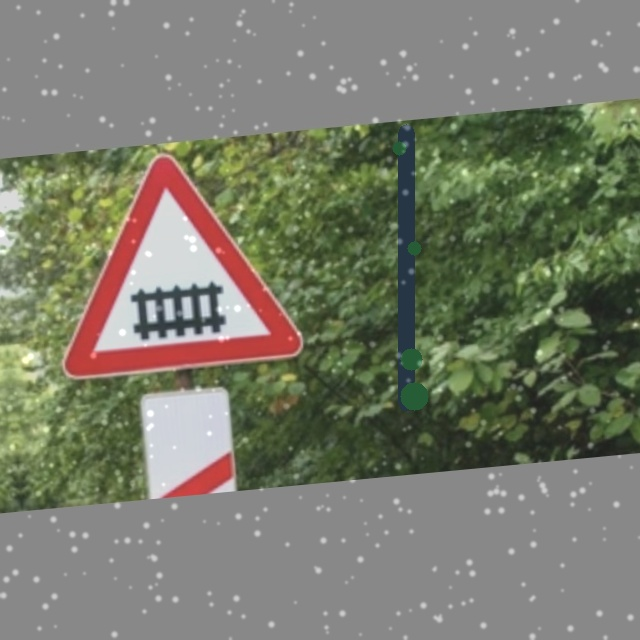Guarded_Level_Crossing: (48, 152, 298, 376)
